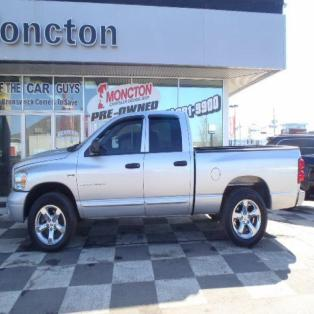Auto: (5, 109, 307, 251)
